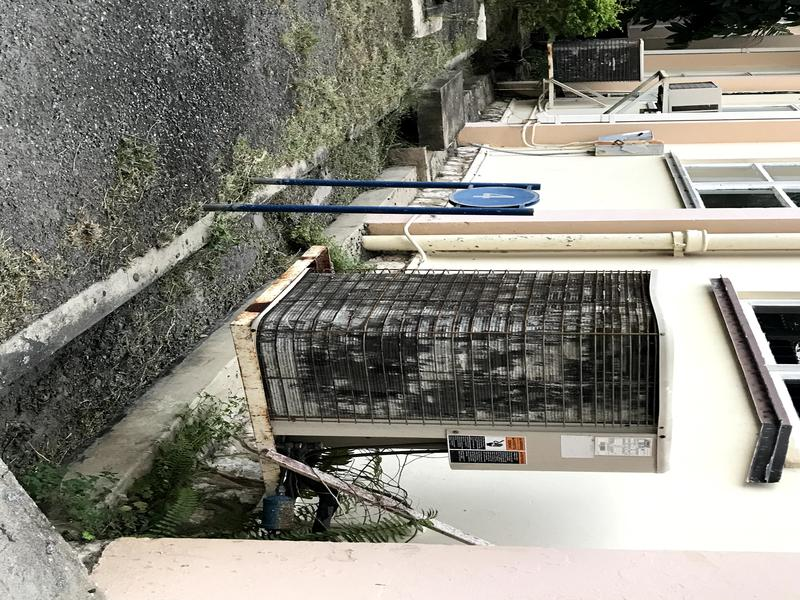18.0053530_-76.7490375_signatentrancetoscitech: (189, 160, 548, 243)
